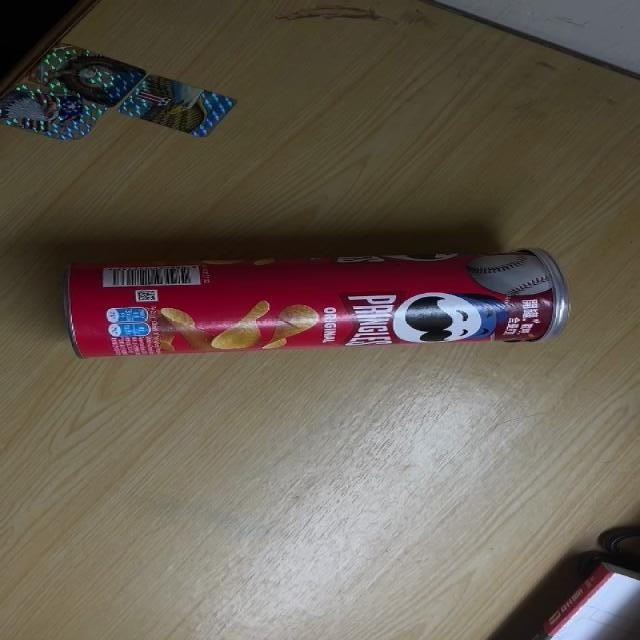Pringles: (60, 246, 573, 360)
